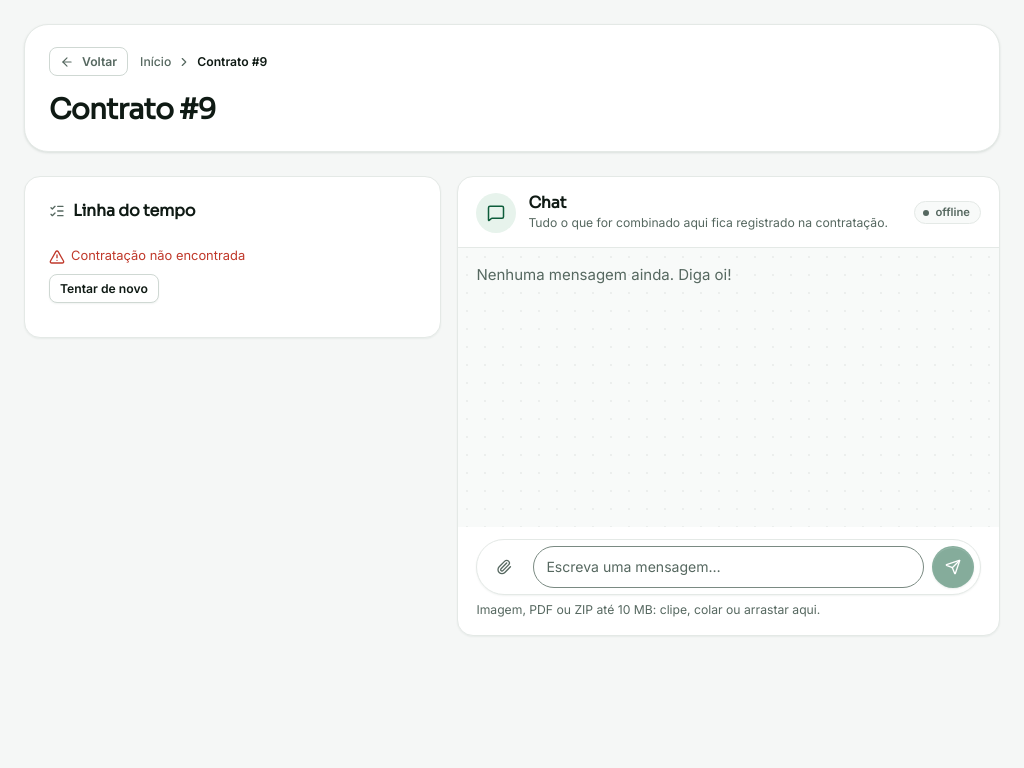
Test: SalaContratoView: carregamento › contratação que a API recusa: mostra o erro e "Tentar de novo" busca outra vez
This screenshot has width=1024, height=768.
Expected: the message shows "Contratação não encontrada", [71,248,245,263]
Expected: the heading "Contrato #9" is shown, [49,92,216,127]
Step 1. Click the button "Tentar de novo" → click(104, 289), box [49,274,159,303]
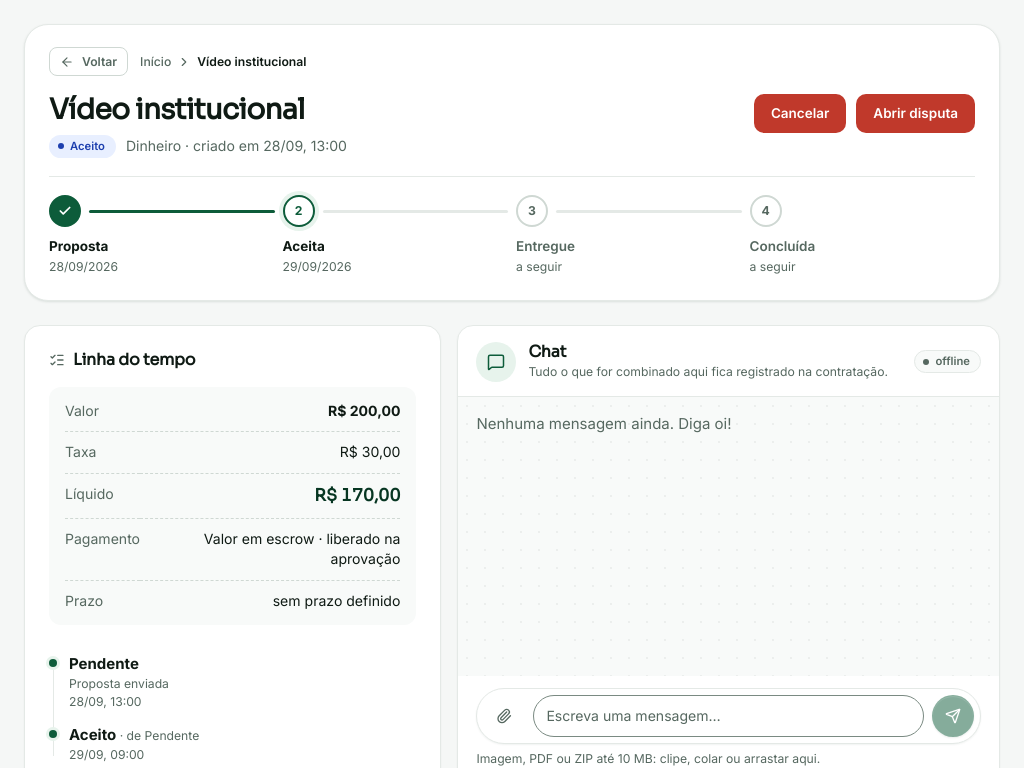
Now the heading "Vídeo institucional" is shown, box [49,92,305,127]
